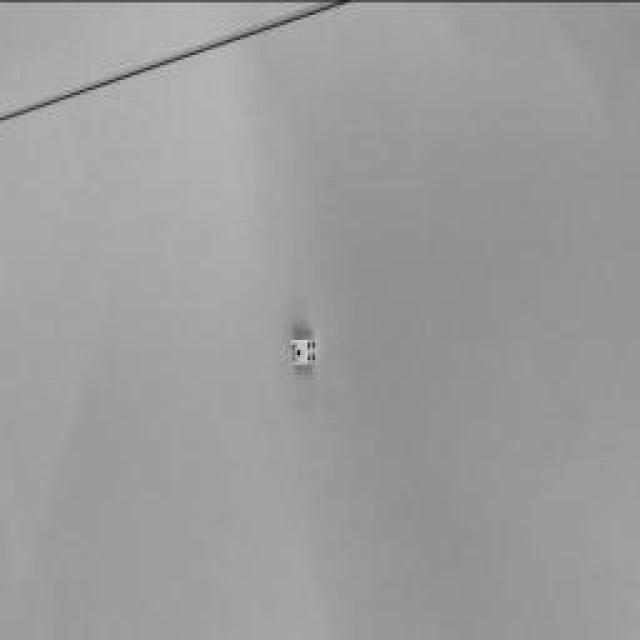dice_1: (292, 338, 306, 364)
